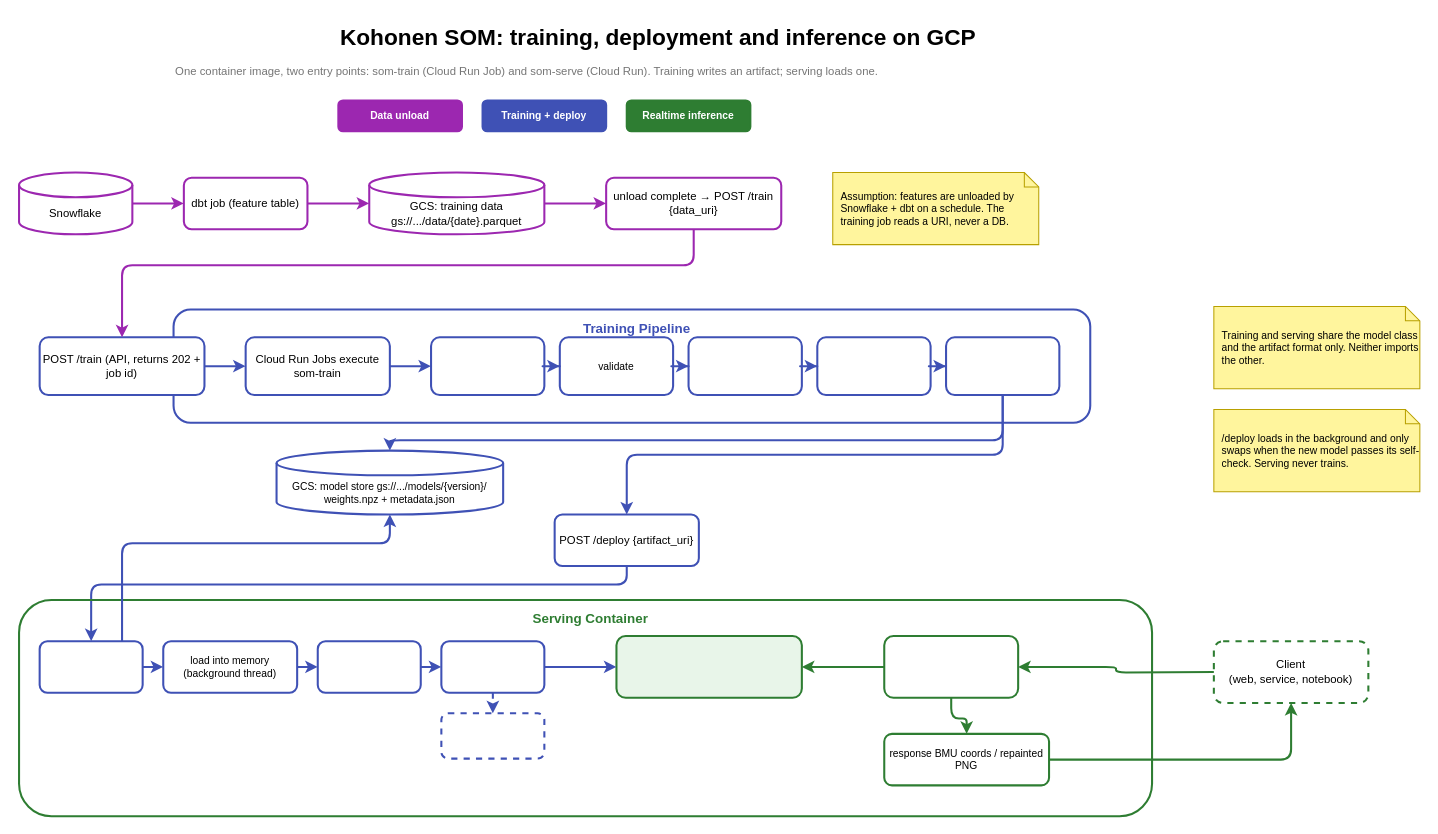
Image size: 1438x834. Some labels were removed from this diagram. The shapes that lost their labels are listed below. From the top down, each one's centre as x and y in pixels, then its label:
At point (487, 366): "load (read data_uri)".
At point (744, 366): "fit (vectorised SOM)".
At point (873, 366): "evaluate (quantisation err)".
At point (1002, 366): "save + deploy".
At point (90, 666): "download artifact".
At point (368, 666): "validate + self-check".
At point (492, 666): "swap model pointer".
At point (708, 666): "model in memory SOM(weights, config) version, qe, created_at".
At point (951, 666): "POST /predict image or vectors".
At point (492, 735): "old version keeps serving until swap".
